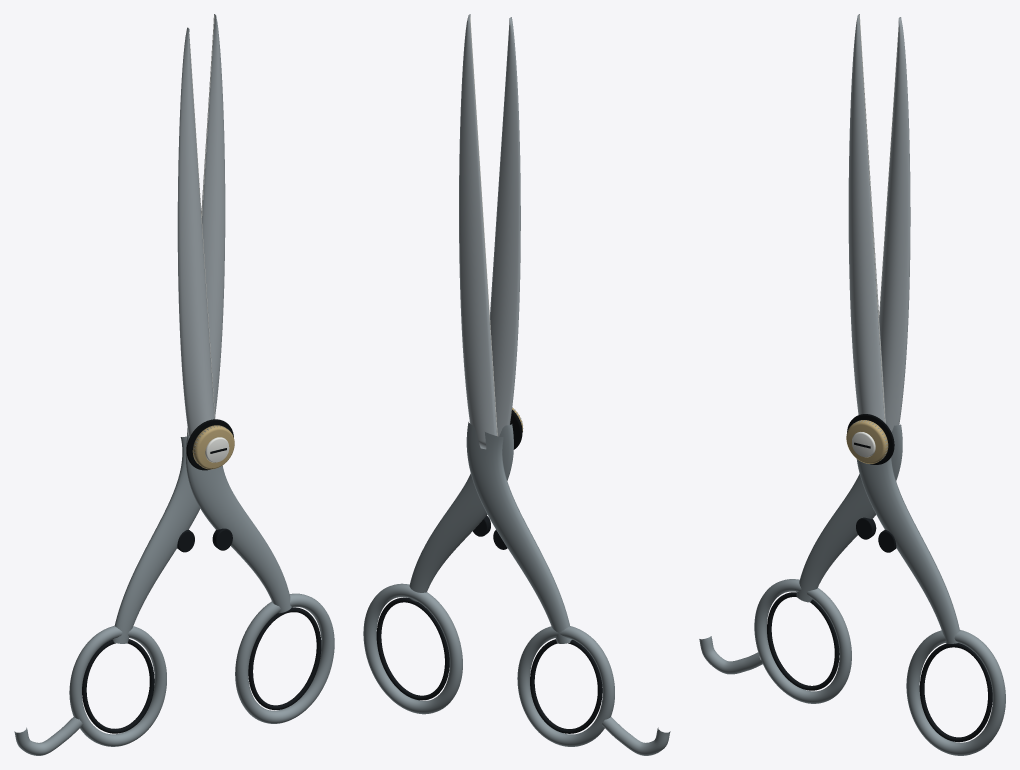
Rendered from abc-atelier-shears-01.glb.
3 renders of one model, left to right at view 1: azimuth 30°, elevation 25°; view 2: azimuth 150°, elevation 25°; view 3: azimuth 330°, elevation 25°, orthographic.
Parts seen in each view (by area): view 1: ScissorHalfB_Shears_Forged_Handle, ScissorHalfA_Shears_Forged_Handle, ScissorHalfA_Shears_Convex_Steel, ScissorHalfB_Shears_Convex_Steel, ScissorHalfA_Shears_Finger_Insert, ScissorHalfB_Shears_Finger_Insert, ScissorPivot_Shears_Champagne_Tension_Dial, ScissorPivot_Shears_Recess; view 2: ScissorHalfB_Shears_Forged_Handle, ScissorHalfB_Shears_Convex_Steel, ScissorHalfA_Shears_Convex_Steel, ScissorHalfA_Shears_Forged_Handle, ScissorHalfA_Shears_Finger_Insert, ScissorHalfB_Shears_Finger_Insert, ScissorHalfB_Shears_Honed_Edge; view 3: ScissorHalfA_Shears_Forged_Handle, ScissorHalfA_Shears_Convex_Steel, ScissorHalfB_Shears_Forged_Handle, ScissorHalfB_Shears_Convex_Steel, ScissorHalfA_Shears_Finger_Insert, ScissorHalfB_Shears_Finger_Insert, ScissorPivot_Shears_Champagne_Tension_Dial, ScissorPivot_Shears_Recess, ScissorHalfA_Shears_Honed_Edge.
Part boxes in pixels (x1,y1,x2,y2): ScissorHalfB_Shears_Forged_Handle: (14,436,200,755); ScissorHalfA_Shears_Forged_Handle: (185,435,334,723); ScissorHalfA_Shears_Convex_Steel: (177,27,214,435); ScissorHalfB_Shears_Convex_Steel: (187,14,225,435); ScissorHalfA_Shears_Finger_Insert: (212,528,321,709); ScissorHalfB_Shears_Finger_Insert: (82,529,194,733); ScissorPivot_Shears_Champagne_Tension_Dial: (192,425,234,469); ScissorPivot_Shears_Recess: (186,419,233,470); ScissorHalfB_Shears_Forged_Handle: (466,422,670,755); ScissorHalfB_Shears_Convex_Steel: (459,14,496,449); ScissorHalfA_Shears_Convex_Steel: (490,17,520,436); ScissorHalfA_Shears_Forged_Handle: (363,424,513,714); ScissorHalfA_Shears_Finger_Insert: (376,515,490,700); ScissorHalfB_Shears_Finger_Insert: (493,530,602,733); ScissorHalfB_Shears_Honed_Edge: (469,15,497,436); ScissorHalfA_Shears_Forged_Handle: (856,457,1005,755); ScissorHalfA_Shears_Convex_Steel: (848,14,886,423); ScissorHalfB_Shears_Forged_Handle: (699,424,902,703); ScissorHalfB_Shears_Convex_Steel: (879,17,910,431); ScissorHalfA_Shears_Finger_Insert: (878,530,992,742); ScissorHalfB_Shears_Finger_Insert: (767,517,876,690); ScissorPivot_Shears_Champagne_Tension_Dial: (846,420,888,463); ScissorPivot_Shears_Recess: (847,414,894,464); ScissorHalfA_Shears_Honed_Edge: (859,15,885,422).
Size of the model in its own units: 1.86 by 4.09 by 0.253.
